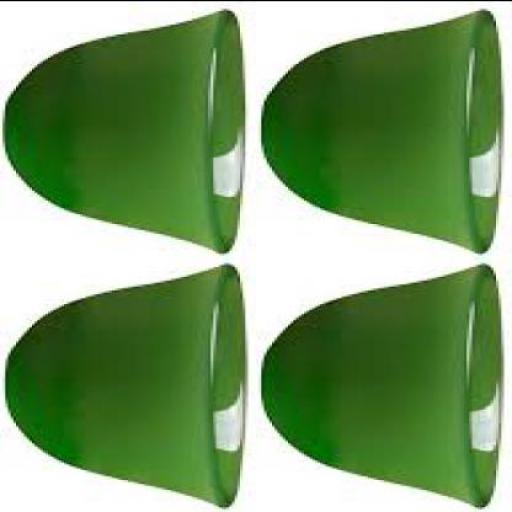glass: (2, 6, 248, 250), (264, 260, 506, 506), (10, 262, 250, 506), (264, 6, 504, 250)
